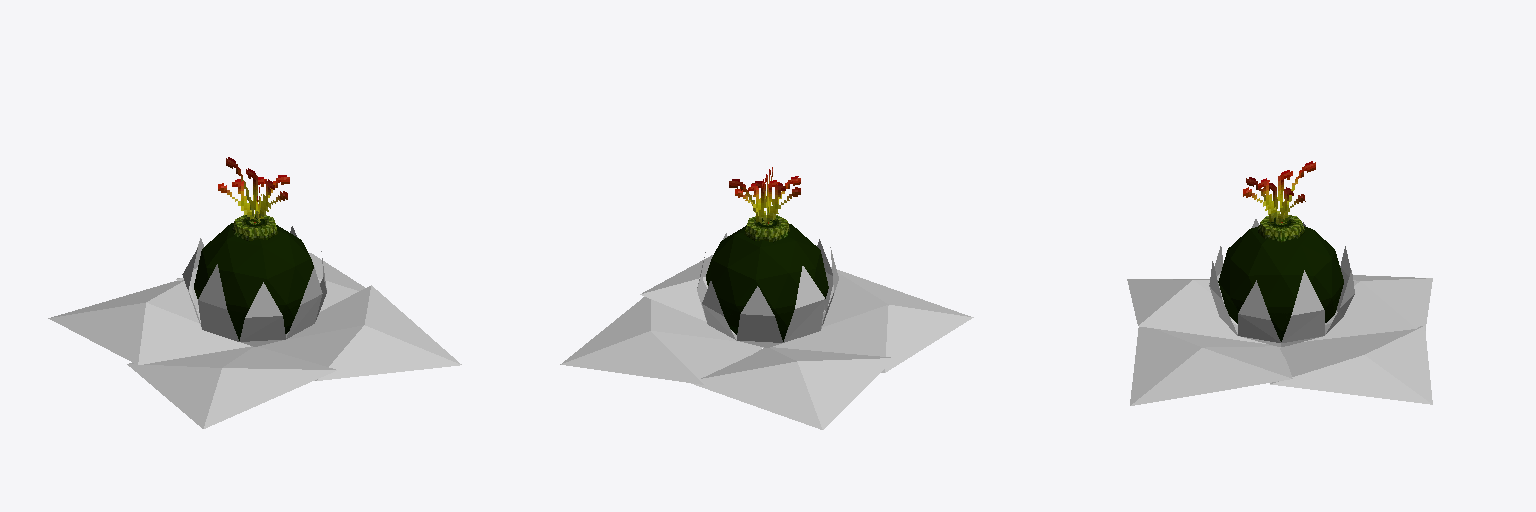
The picture shows the model from 3 angles: view 1: azimuth 30°, elevation 25°; view 2: azimuth 150°, elevation 25°; view 3: azimuth 270°, elevation 25°; orthographic projection.
Visible parts, largest first — view 1: nodes_2.001, nodes_2, nodes_2.002, nodes_3; view 2: nodes_2.001, nodes_2, nodes_2.002, nodes_3; view 3: nodes_2.001, nodes_2, nodes_2.002, nodes_3.
Boxes of the visible parts, box(x1,y1,x2,y2) form: nodes_2.001: box(48, 253, 461, 428); nodes_2: box(194, 223, 313, 340); nodes_2.002: box(182, 226, 326, 346); nodes_3: box(218, 157, 289, 241); nodes_2.001: box(560, 255, 973, 429); nodes_2: box(706, 224, 828, 341); nodes_2.002: box(697, 233, 838, 347); nodes_3: box(729, 167, 800, 242); nodes_2.001: box(1127, 275, 1432, 405); nodes_2: box(1218, 226, 1343, 341); nodes_2.002: box(1209, 219, 1354, 346); nodes_3: box(1243, 161, 1315, 242).
Bounding box in the file's own units: 104 × 69.24 × 105.
Materials: 4 (1 with a texture image).